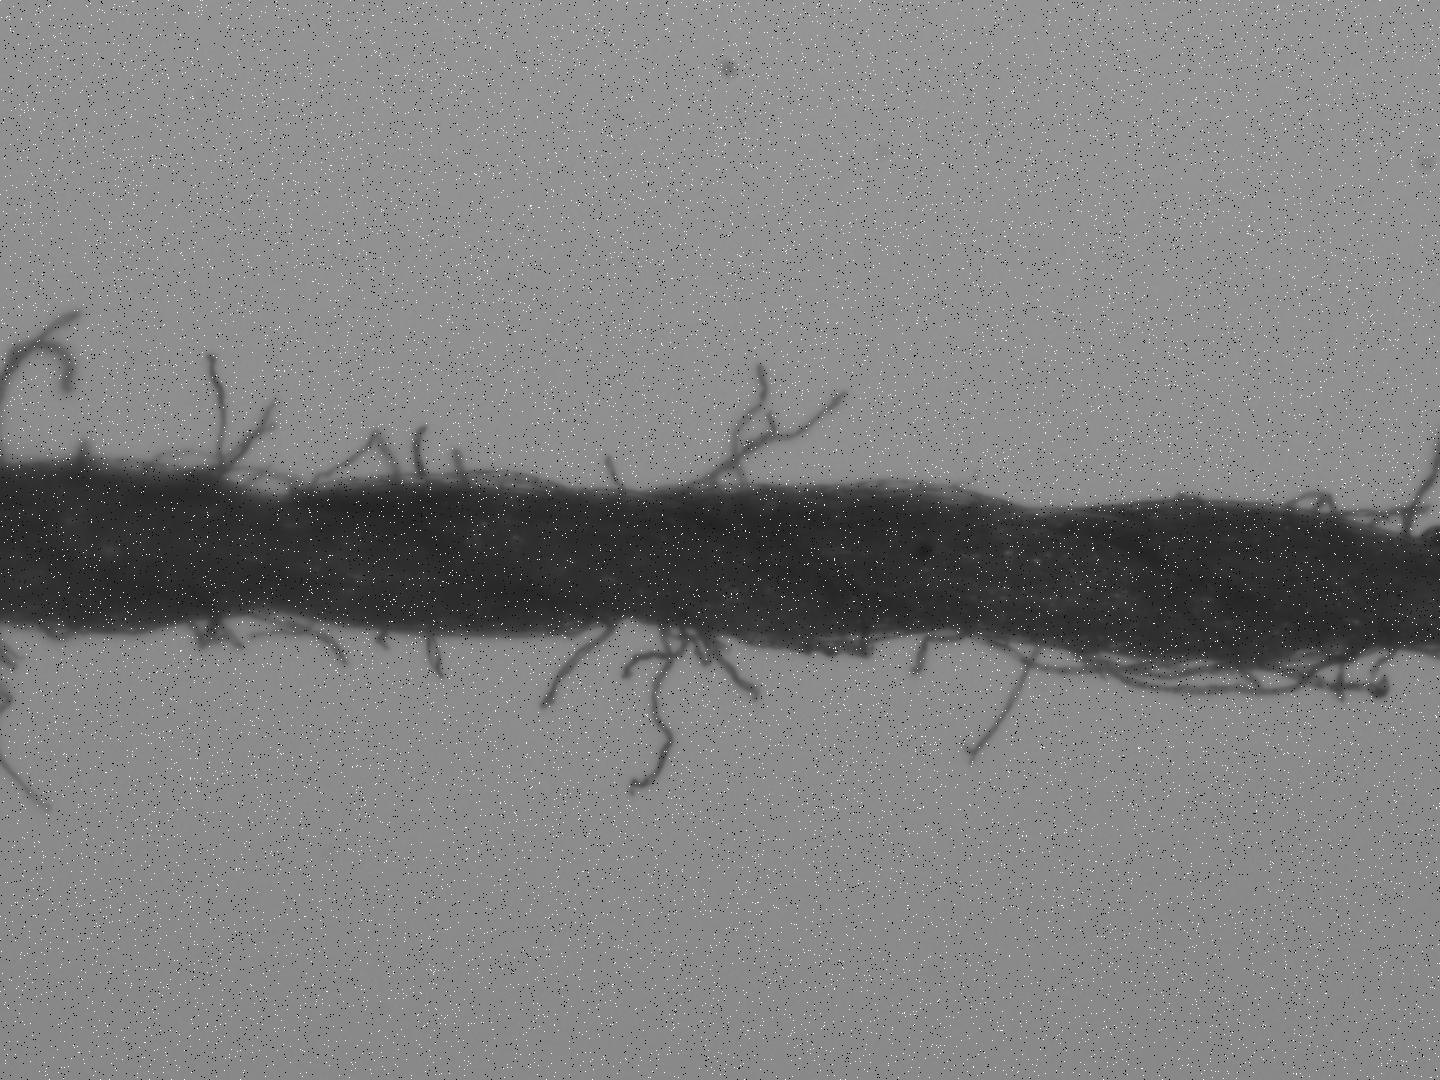loop_fiber: (1099, 648, 1354, 695), (976, 630, 1147, 676), (305, 432, 399, 489), (415, 466, 549, 491), (211, 463, 298, 495), (797, 632, 867, 660), (1281, 491, 1338, 522), (679, 623, 715, 665), (35, 621, 83, 643)
protruding_fiber: (684, 391, 845, 495), (964, 647, 1035, 761), (542, 618, 624, 710), (634, 627, 674, 794), (695, 626, 762, 700), (204, 344, 222, 480), (600, 450, 624, 490), (412, 425, 427, 484)
